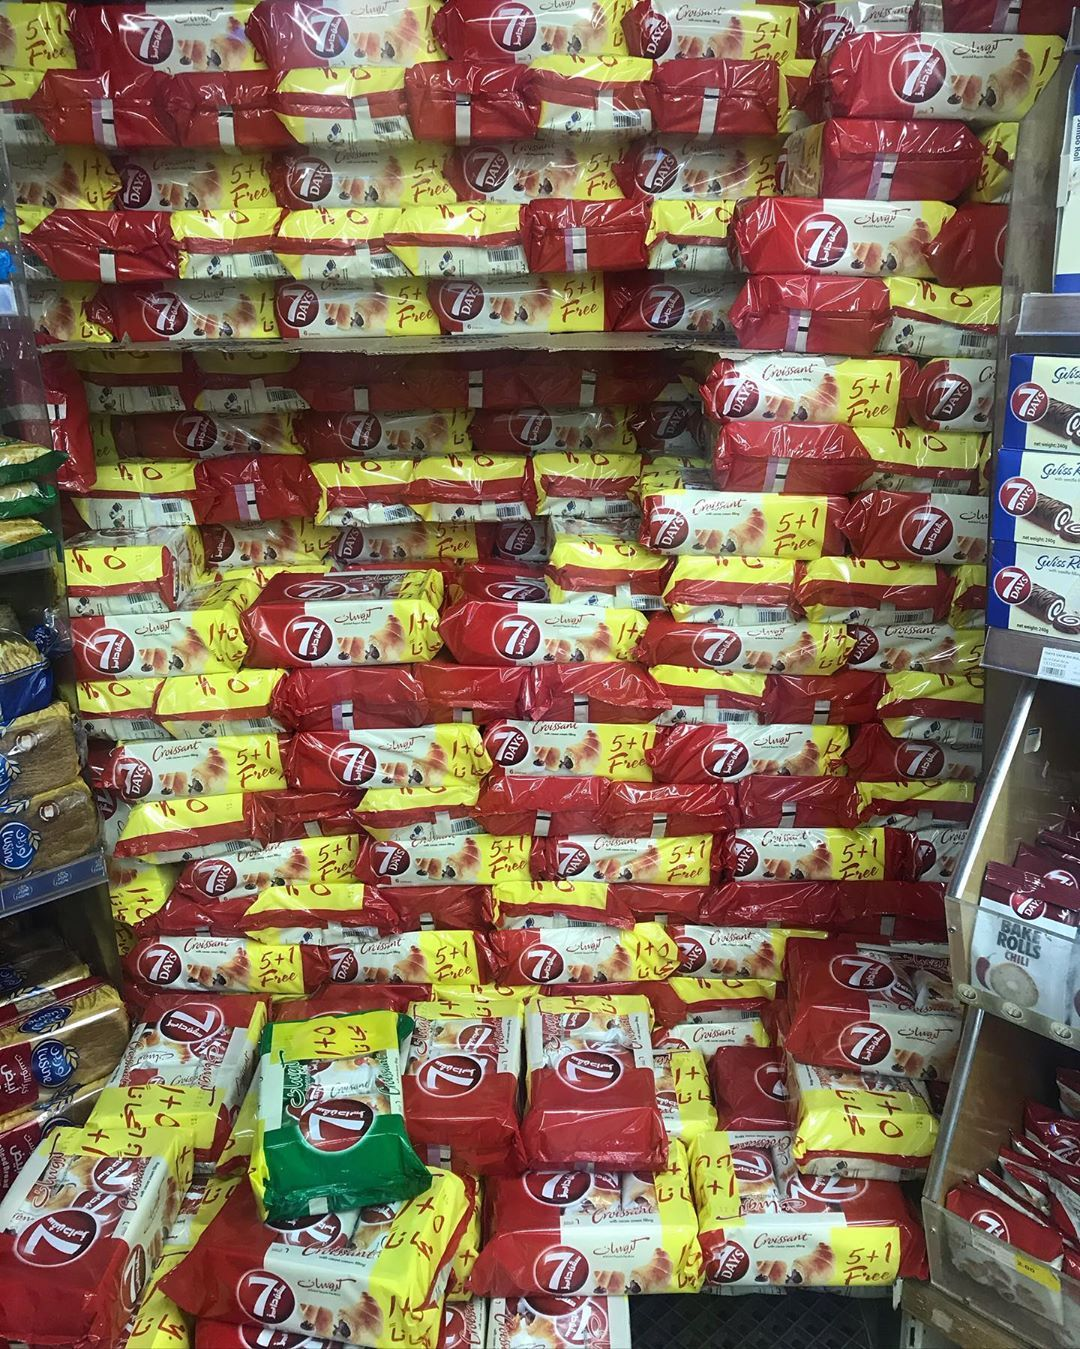7days: (270, 1019, 432, 1209), (530, 999, 672, 1168), (122, 984, 257, 1138), (744, 195, 961, 285), (488, 712, 674, 796), (283, 735, 497, 795), (240, 611, 443, 668), (104, 740, 287, 802), (276, 282, 452, 338)
